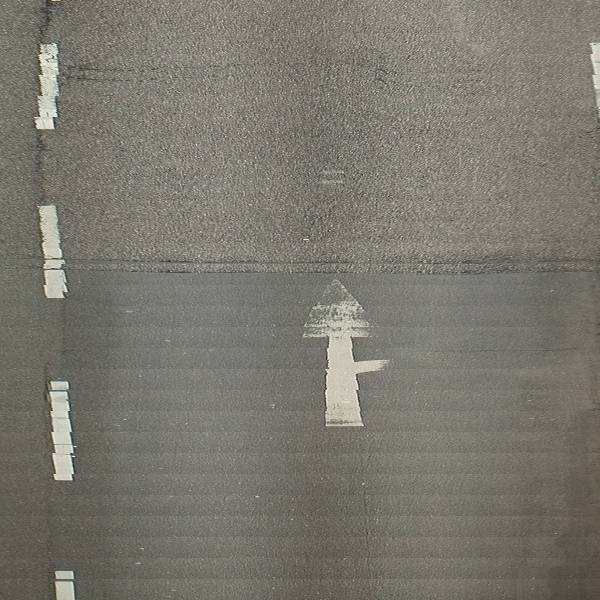road_damage: (68, 249, 531, 266), (64, 61, 209, 75)
